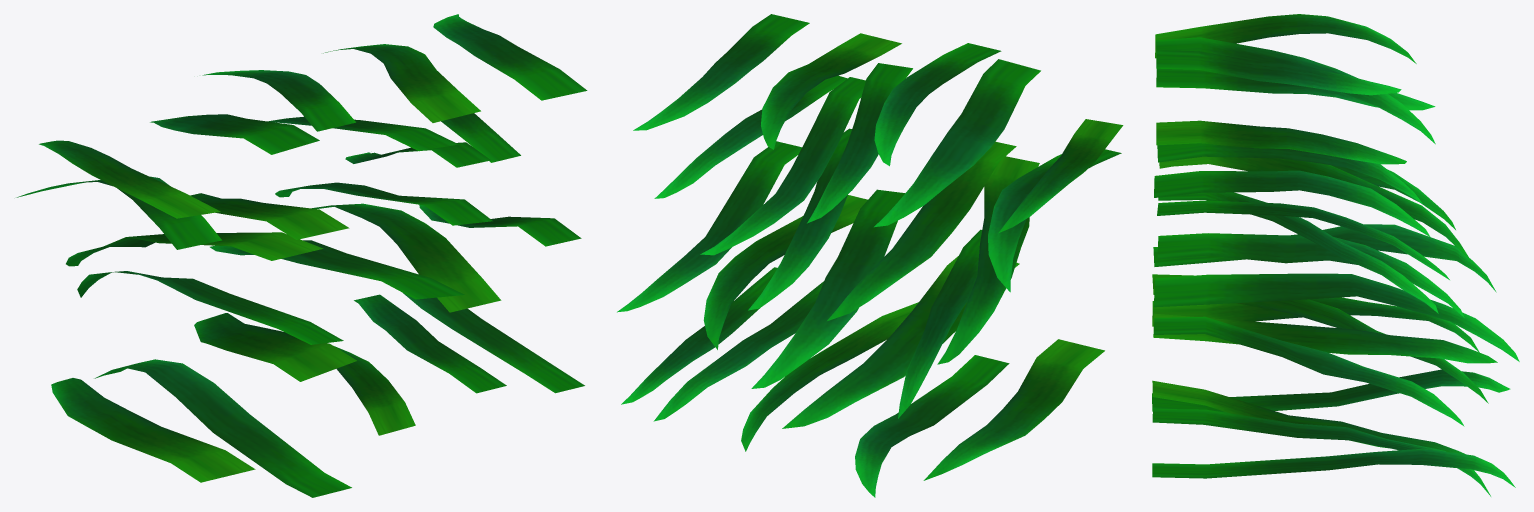
File: TallGrass.fbx
3 renders of one model, left to right at view 1: azimuth 30°, elevation 25°; view 2: azimuth 150°, elevation 25°; view 3: azimuth 270°, elevation 25°, orthographic. The views are drawn at different scales.
Parts seen in each view (by area): view 1: base__MI_Lawn_01; view 2: base__MI_Lawn_01; view 3: base__MI_Lawn_01.
Boxes of the visible parts, x1,y1,x2,y2 form: base__MI_Lawn_01: (16,14,587,497); base__MI_Lawn_01: (617,14,1123,497); base__MI_Lawn_01: (1152,14,1519,496).
Bounding box in the file's own units: 17158 × 13498 × 12558.
Materials: 1 (1 with a texture image).
